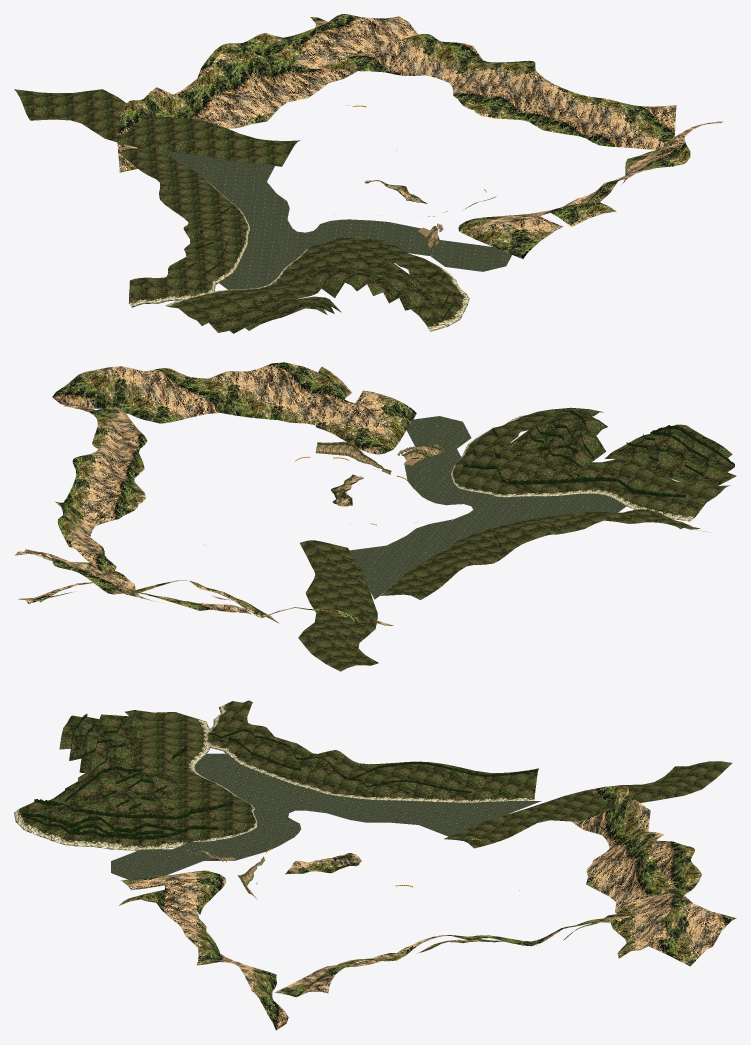
Rendered from track-EU_C4_V2_env.glb.
3 views of the same model, one above another, from view 1: azimuth 30°, elevation 25°; view 2: azimuth 150°, elevation 25°; view 3: azimuth 270°, elevation 25° (orthographic). The views are drawn at different scales.
Visible parts, largest first — view 1: EU_C4_V2_env; view 2: EU_C4_V2_env; view 3: EU_C4_V2_env.
Boxes of the visible parts, x1,y1,x2,y2 form: EU_C4_V2_env: (14, 14, 722, 333); EU_C4_V2_env: (14, 362, 736, 671); EU_C4_V2_env: (14, 700, 736, 1030).
Bounding box in the file's own units: 4109 × 336 × 3868.
Materials: 11 (10 with a texture image).
